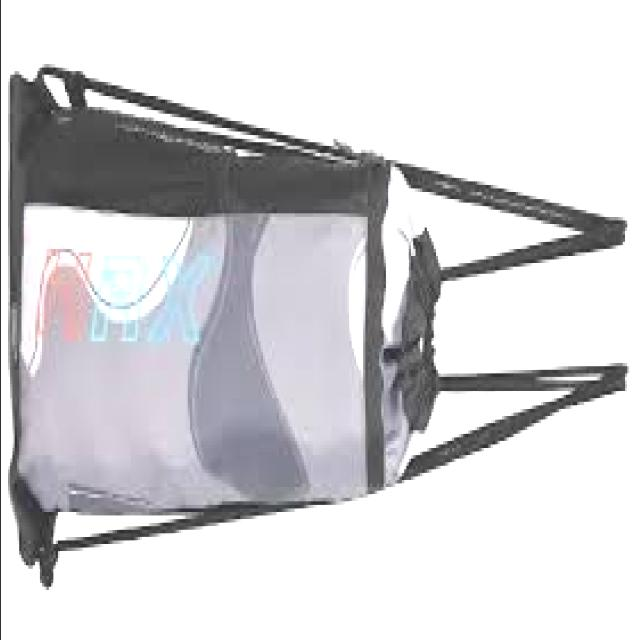backpack: (10, 66, 632, 588)
